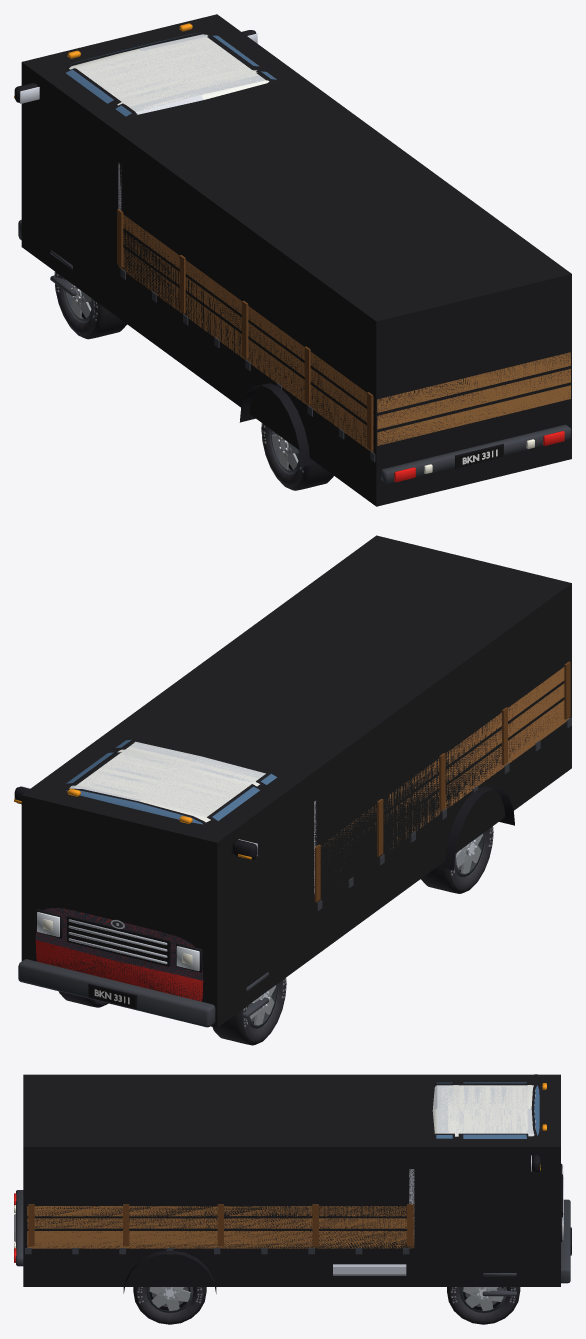
File: veh_lorry.fbx
3 views of the same model, one above another, from view 1: azimuth 30°, elevation 25°; view 2: azimuth 150°, elevation 25°; view 3: azimuth 270°, elevation 25° (orthographic). The views are drawn at different scales.
Parts seen in each view (by area): view 1: COL_veh_lorry, Detail, Body, Wheel_FL, Wheel_RL, Rim_RL, Rim_FL; view 2: COL_veh_lorry, Detail, Body, Wheel_FL, Wheel_RL, HeadLights, Glass, Rim_RL, Rim_FL; view 3: COL_veh_lorry, Detail, Body, Wheel_RR, Wheel_FR, Rim_RR, Rim_FR, Glass.
Part boxes in pixels (<box>): COL_veh_lorry: <box>21,14,571,506</box>; Detail: <box>14,23,571,483</box>; Body: <box>69,34,269,114</box>; Wheel_FL: <box>54,271,126,339</box>; Wheel_RL: <box>261,423,333,490</box>; Rim_RL: <box>270,429,300,474</box>; Rim_FL: <box>63,278,93,322</box>; COL_veh_lorry: <box>21,535,571,1027</box>; Detail: <box>14,661,571,1027</box>; Body: <box>35,741,265,1001</box>; Wheel_FL: <box>212,978,286,1045</box>; Wheel_RL: <box>421,826,493,893</box>; HeadLights: <box>37,912,199,971</box>; Glass: <box>66,739,277,824</box>; Rim_RL: <box>454,832,484,877</box>; Rim_FL: <box>247,984,277,1028</box>; COL_veh_lorry: <box>23,1074,560,1286</box>; Detail: <box>14,1074,571,1296</box>; Body: <box>432,1085,535,1136</box>; Wheel_RR: <box>133,1287,206,1324</box>; Wheel_FR: <box>447,1287,520,1324</box>; Rim_RR: <box>146,1287,193,1313</box>; Rim_FR: <box>460,1287,506,1313</box>; Glass: <box>436,1082,539,1138</box>.
Size of what is drawn, in the model's own units: 2.58 by 2.53 by 6.85.
Materials: 1 (1 with a texture image).
